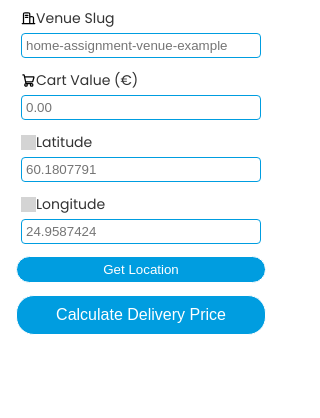
Test: PriceCalculatorForm Component › displays error if latitude or longitude is empty on submit
This screenshot has width=320, height=418.
Type "some-venue" into the field labelled "Venue Slug".
click(141, 46); type("some-venue")  # box [21, 33, 261, 58]
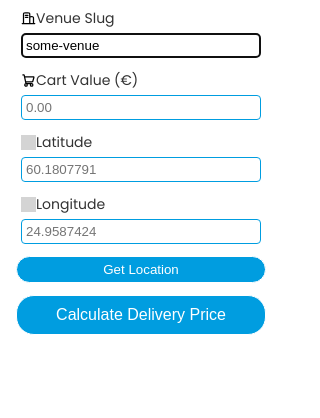
Type "10" into the field labelled "Cart Value (€)".
click(141, 108); type("10")  # box [21, 95, 261, 120]
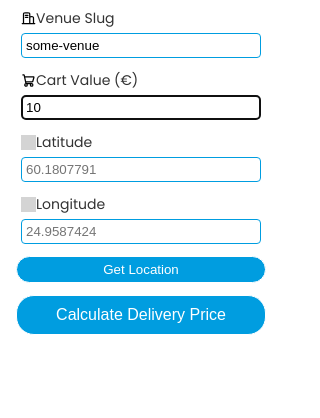
Click the button "Calculate Delivery Price".
click(141, 315)  # box [16, 295, 266, 335]
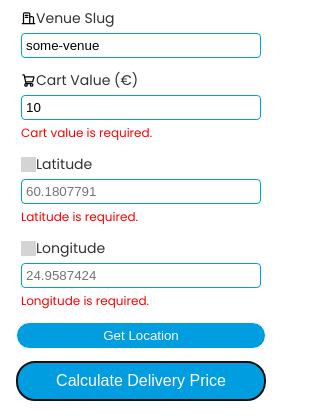
Check: the text "Latitude is required." is shown, box [21, 208, 138, 226]
Check: the text "Longitude is required." is shown, box [21, 292, 149, 310]
